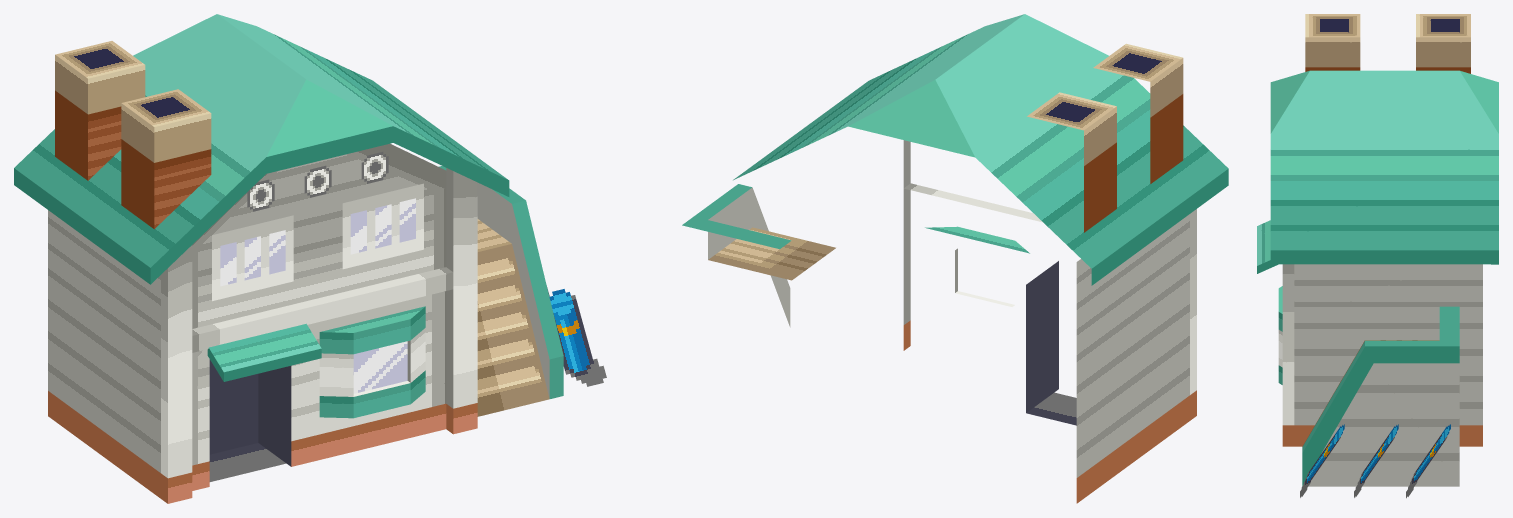
3 views of the same model, side by side, from view 1: azimuth 30°, elevation 25°; view 2: azimuth 150°, elevation 25°; view 3: azimuth 270°, elevation 25° (orthographic). The views are drawn at different scales.
Parts seen in each view (by area): view 1: wk_labo; view 2: wk_labo; view 3: wk_labo.
Part boxes in pixels (x1,y1,x2,y2): wk_labo: (14, 14, 606, 503); wk_labo: (682, 14, 1228, 503); wk_labo: (1257, 14, 1498, 498).
Size of the model in its own units: 7.33 by 5.49 by 3.84.
Materials: 3 (3 with a texture image).
